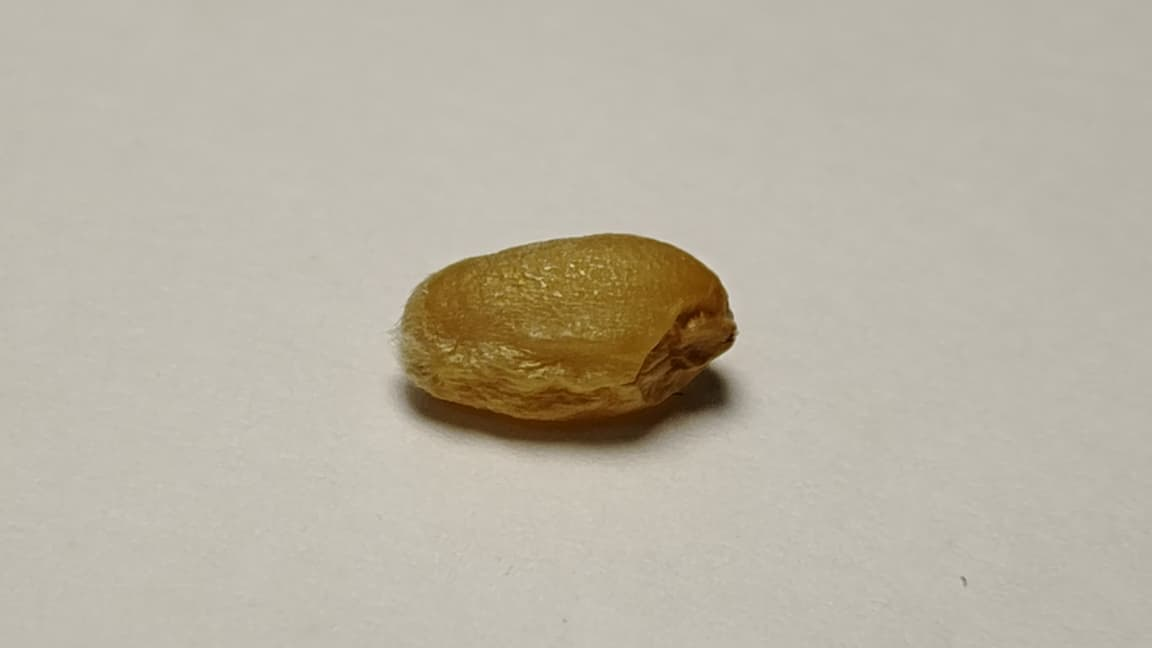healthy: (396, 235, 735, 420)
